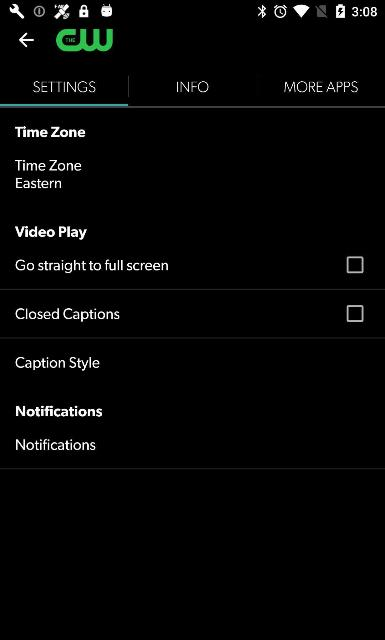CheckedTextView: (15, 256, 363, 274), (16, 306, 364, 322)
Icon: (18, 32, 34, 48)
Image: (56, 28, 112, 52)
Multi_Tab: (0, 66, 385, 106)
Text: (15, 259, 168, 273), (16, 307, 120, 321), (15, 356, 99, 370), (16, 405, 102, 417), (15, 226, 87, 240), (16, 438, 96, 450), (284, 81, 358, 93), (15, 126, 85, 138), (14, 159, 82, 171), (34, 81, 96, 93), (16, 178, 62, 188), (177, 81, 209, 93)
Toolbar: (0, 23, 385, 65)
UpperTaskBar: (0, 0, 384, 22)
